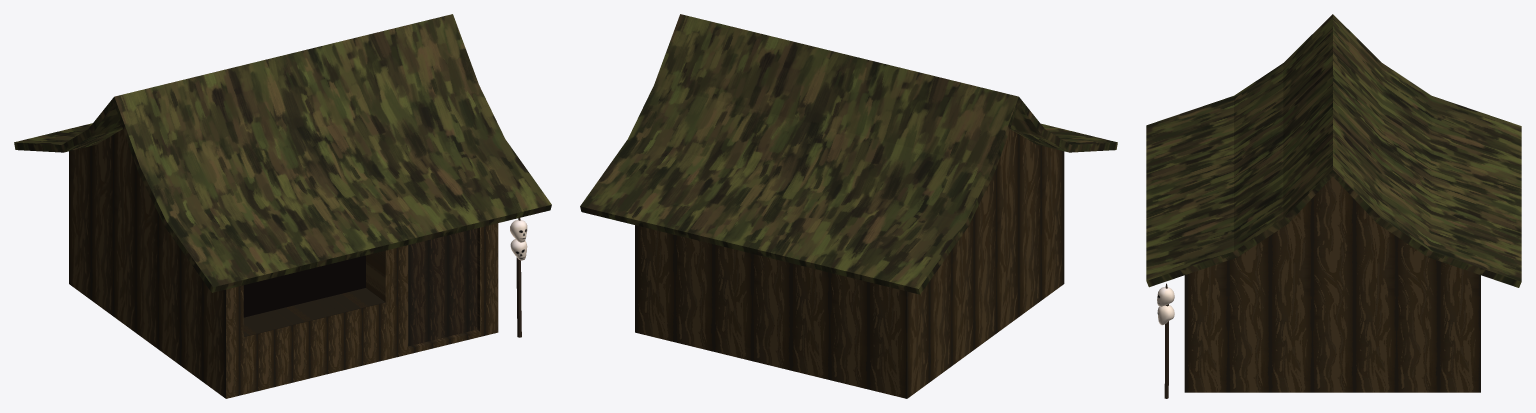
Rendered from shop.fbx.
3 views of the same model, side by side, from view 1: azimuth 30°, elevation 25°; view 2: azimuth 150°, elevation 25°; view 3: azimuth 270°, elevation 25° (orthographic). The views are drawn at different scales.
Visible parts, largest first — view 1: building, skull-pole; view 2: building; view 3: building, skull-pole.
Boxes of the visible parts, x1=… form: building: x1=14, y1=14, x2=551, y2=398; skull-pole: x1=510, y1=218, x2=527, y2=337; building: x1=580, y1=14, x2=1117, y2=398; building: x1=1146, y1=14, x2=1521, y2=392; skull-pole: x1=1157, y1=283, x2=1174, y2=398.
Size of the model in its own units: 498 by 355 by 507.
